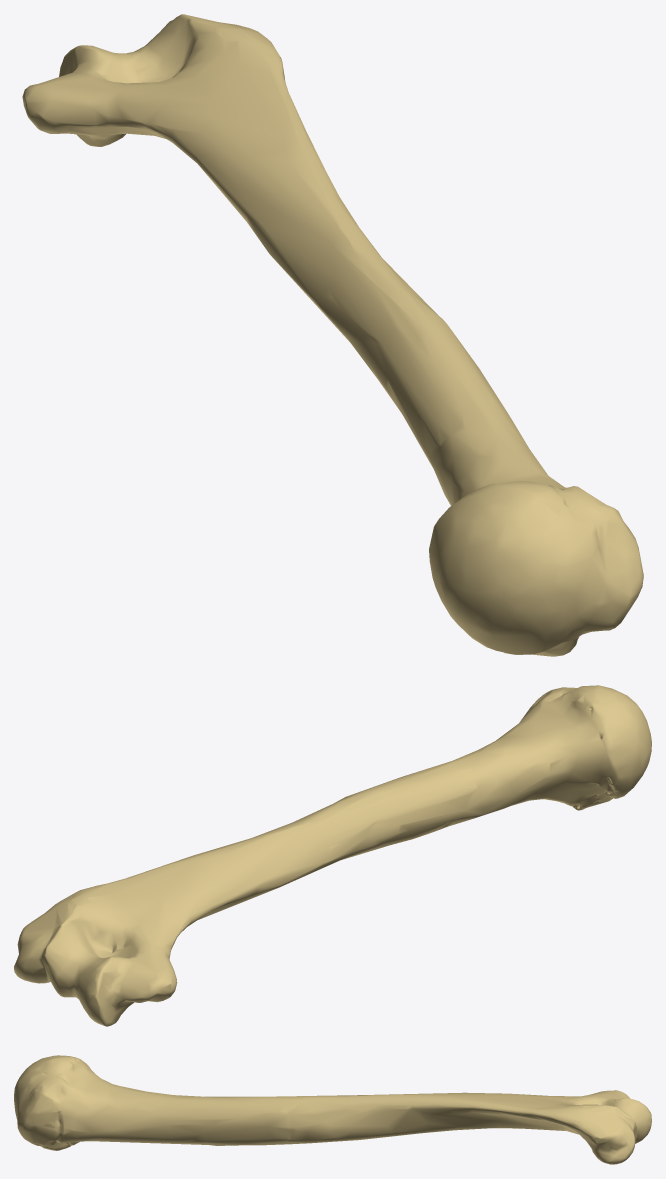
3 views of the same model, one above another, from view 1: azimuth 30°, elevation 25°; view 2: azimuth 150°, elevation 25°; view 3: azimuth 270°, elevation 25° (orthographic). The views are drawn at different scales.
Parts seen in each view (by area): view 1: 左侧肱骨; view 2: 左侧肱骨; view 3: 左侧肱骨.
Boxes of the visible parts, box(x1,y1,x2,y2) form: 左侧肱骨: box(22, 14, 643, 656); 左侧肱骨: box(14, 685, 651, 1026); 左侧肱骨: box(14, 1055, 651, 1164).
Bounding box in the file's own units: 0.1536 × 0.0772 × 0.4679.
